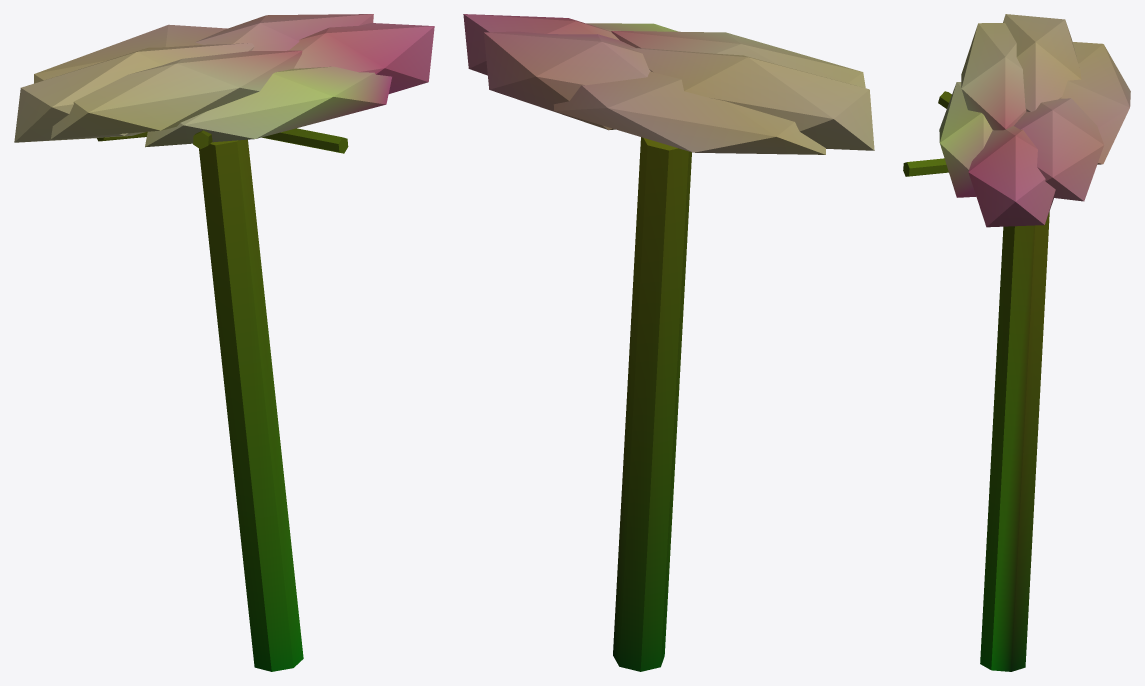
File: savanna_03.glb
3 views of the same model, side by side, from view 1: azimuth 30°, elevation 25°; view 2: azimuth 150°, elevation 25°; view 3: azimuth 270°, elevation 25° (orthographic). The views are drawn at different scales.
Visible parts, largest first — view 1: savanna_03; view 2: savanna_03; view 3: savanna_03.
Boxes of the visible parts, left/top/right/bottom form: savanna_03: left=14, top=14, right=434, bottom=671; savanna_03: left=463, top=14, right=874, bottom=671; savanna_03: left=903, top=14, right=1130, bottom=671.
Bounding box in the file's own units: 2.93 × 4.29 × 1.56.
